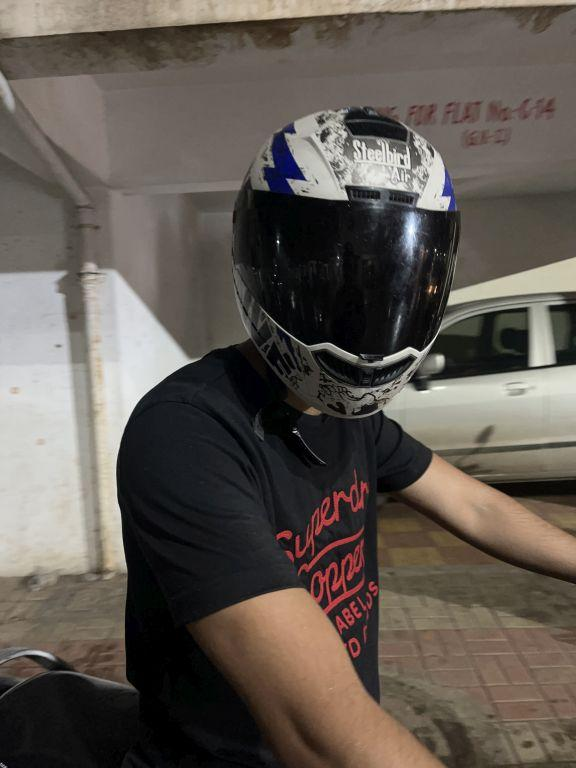helmet: (215, 99, 469, 427)
